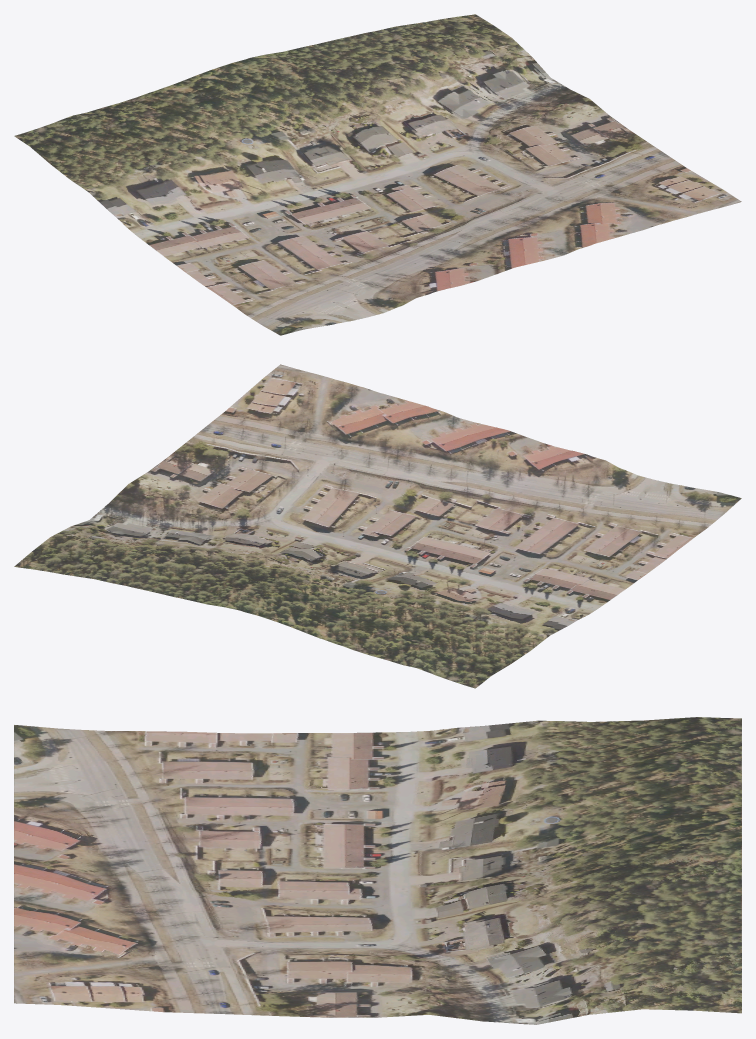
File: CM_Terrain_24490663_6817541.fbx
3 views of the same model, one above another, from view 1: azimuth 30°, elevation 25°; view 2: azimuth 150°, elevation 25°; view 3: azimuth 270°, elevation 25° (orthographic). The views are drawn at different scales.
Visible parts, largest first — view 1: CM_Terrain_24490663_6817541_LOD0; view 2: CM_Terrain_24490663_6817541_LOD0; view 3: CM_Terrain_24490663_6817541_LOD0.
Boxes of the visible parts, x1,y1,x2,y2 form: CM_Terrain_24490663_6817541_LOD0: (14, 14, 741, 335); CM_Terrain_24490663_6817541_LOD0: (14, 364, 741, 688); CM_Terrain_24490663_6817541_LOD0: (14, 717, 741, 1024).
Size of what is drawn, in the model's own units: 205 by 14.23 by 205.
